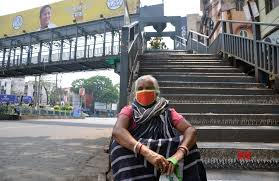mask: (132, 75, 157, 107)
